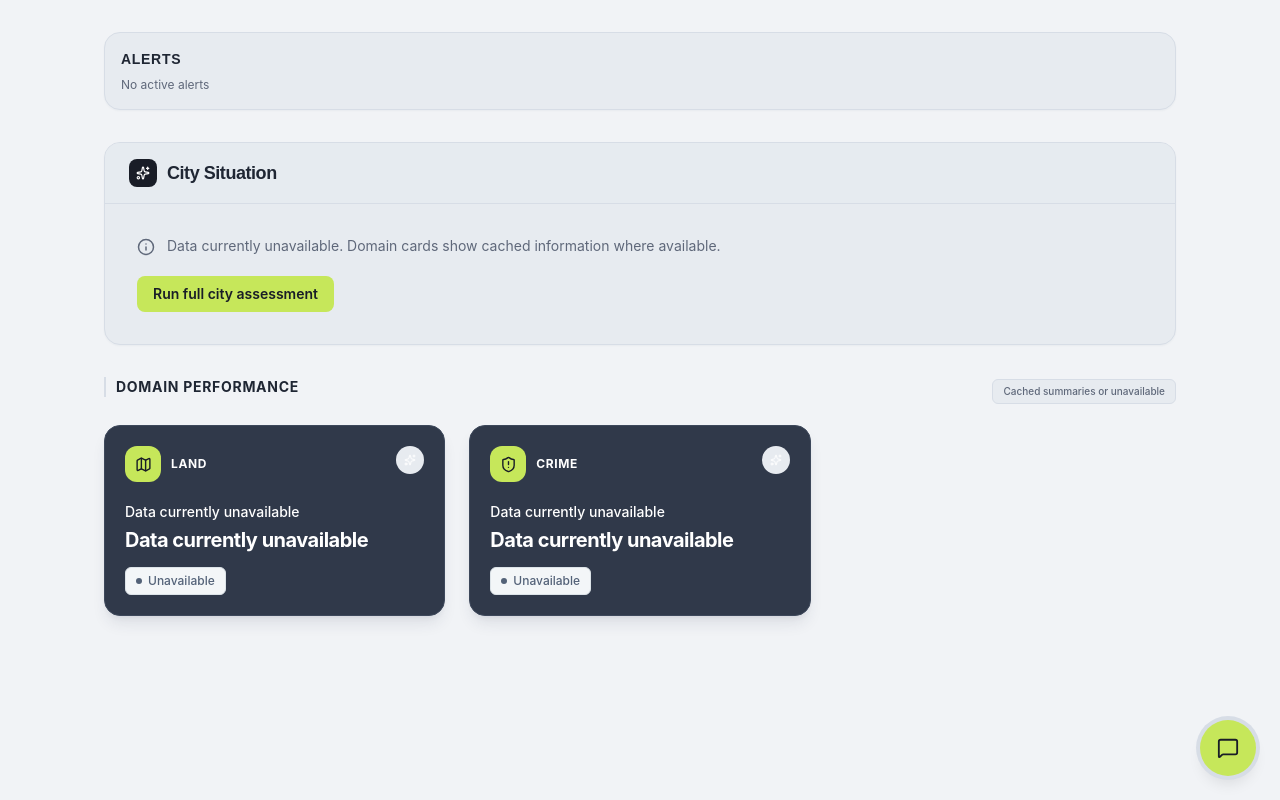
on-demand city assessment › refreshes the domain cards from the warmed coordinator cache after a successful assessment
expect the number of elements with test id "kpi-value-unavailable" is 2: met, box left=125, top=528, right=368, bottom=552; left=490, top=528, right=733, bottom=552
Click the button with test id "request-city-report" at {"x": 236, "y": 294}, box left=137, top=276, right=334, bottom=312
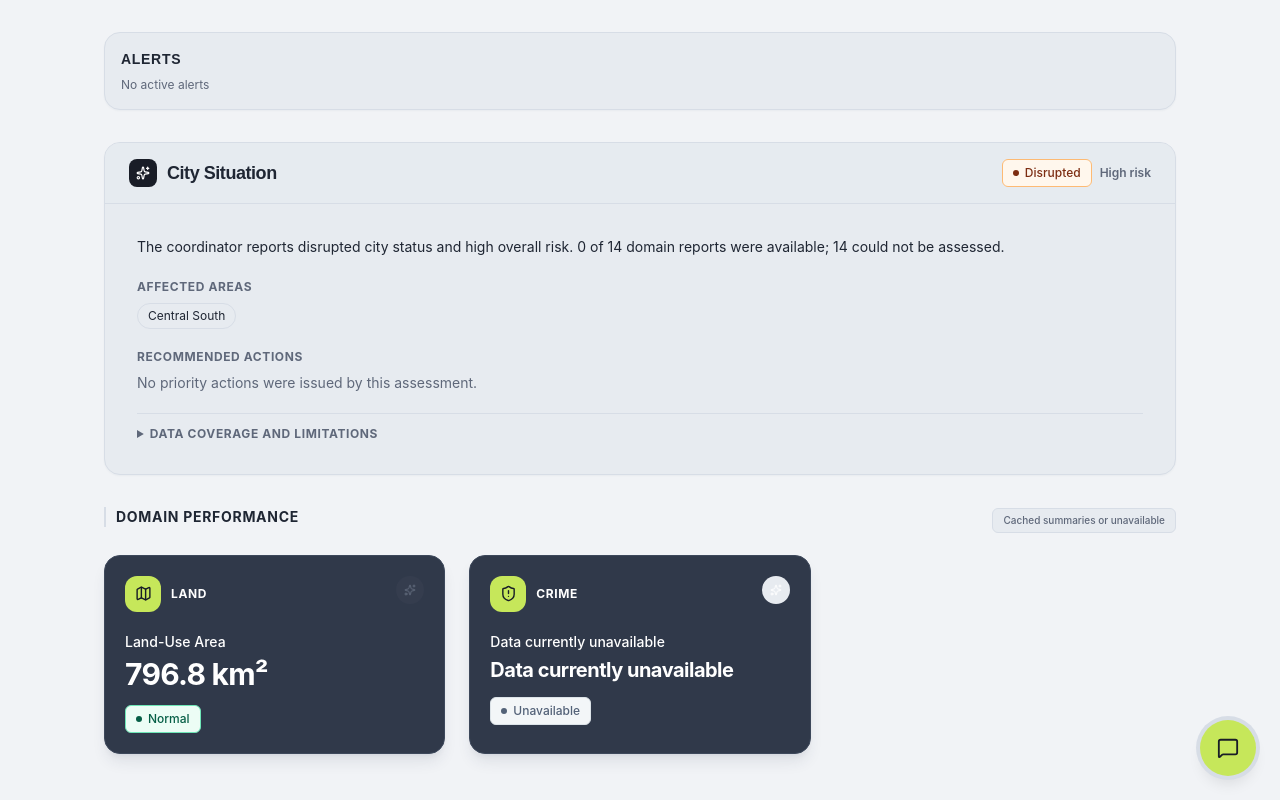
expect the text with test id "kpi-value" shows "796.8": met, box left=125, top=656, right=268, bottom=692
expect the number of elements with test id "kpi-value-unavailable" is 1: met, box left=490, top=658, right=733, bottom=682
expect the text with test id "city-status-badge" reads "Disrupted": met, box left=1025, top=165, right=1081, bottom=180
